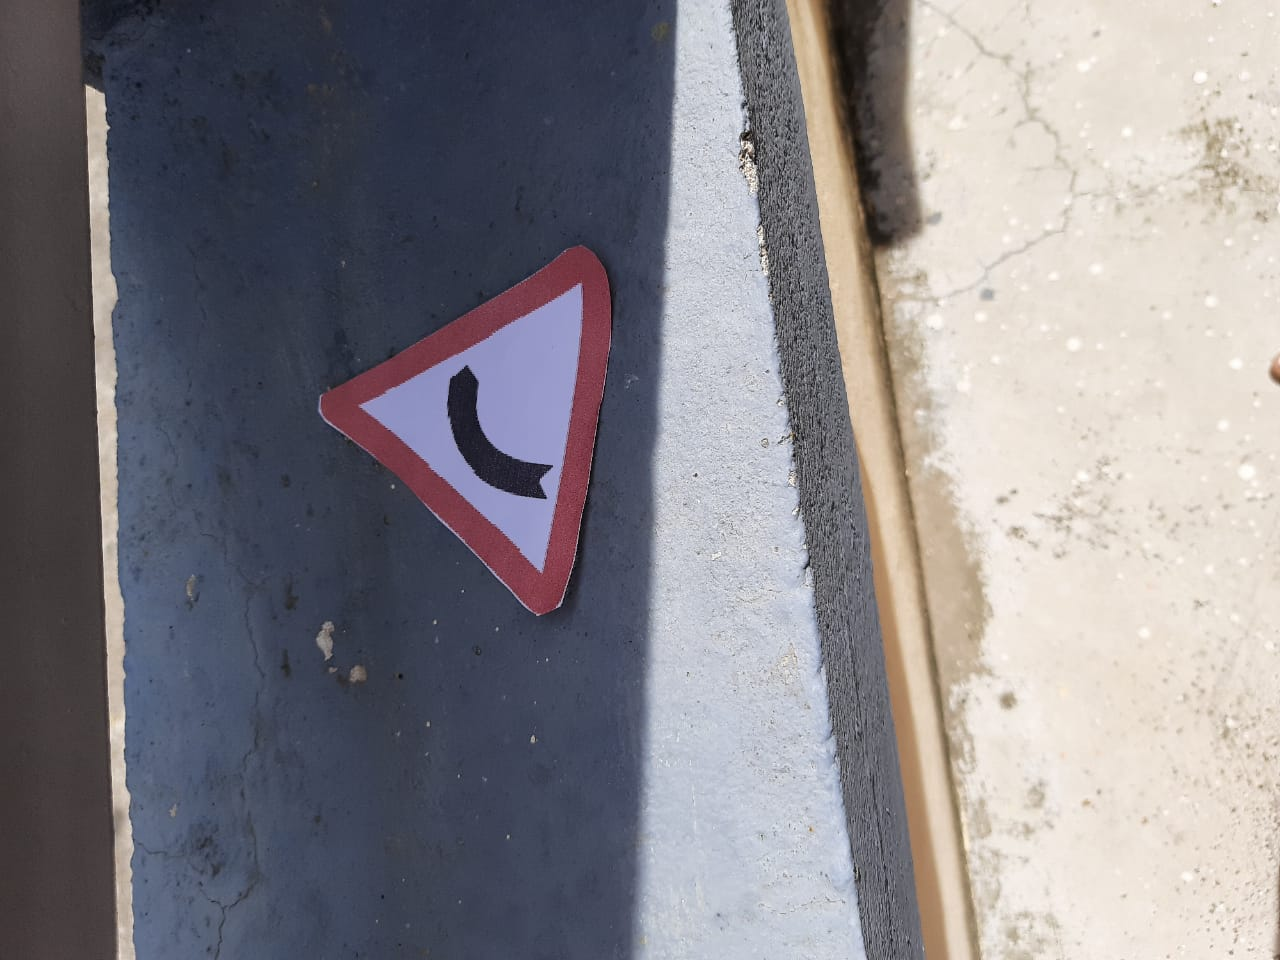RIGHT CURVE: (298, 203, 628, 619)
